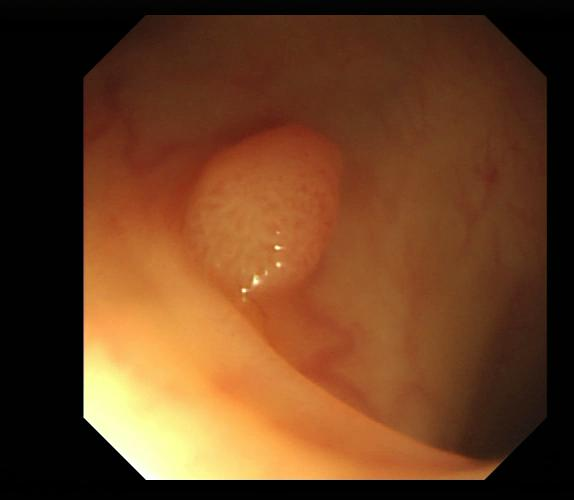polyp: (178, 124, 347, 298)
